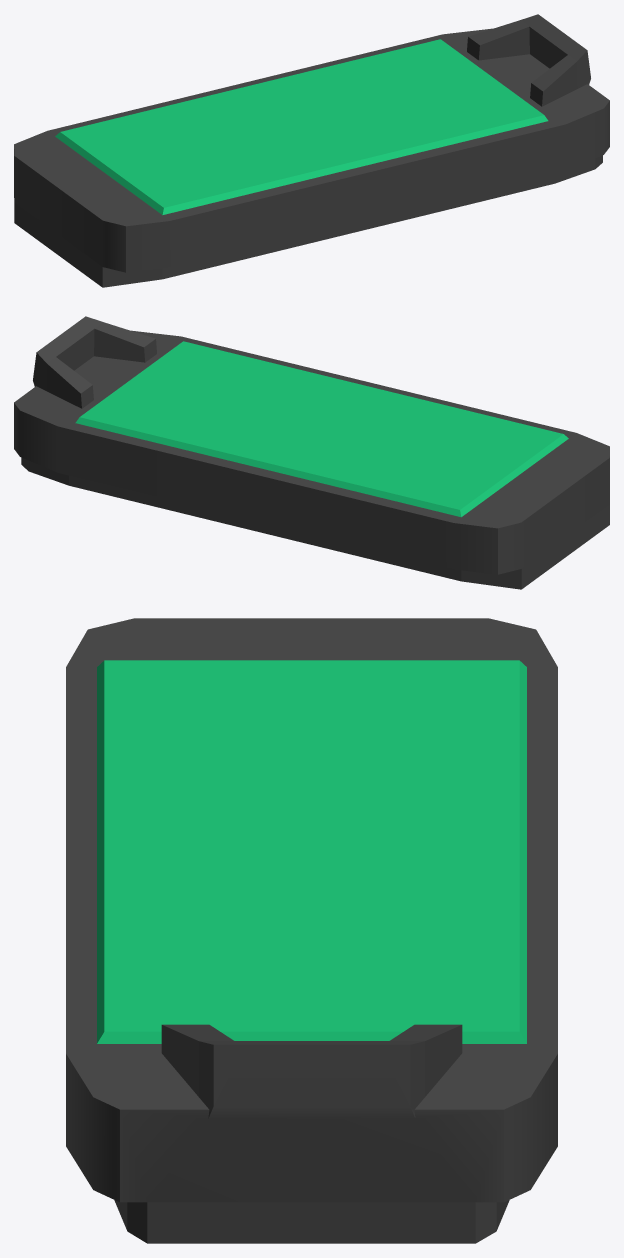
The model's file is Bed4GetOn_Off(Left).dae.
The picture shows the model from 3 angles, top to bottom: view 1: azimuth 30°, elevation 25°; view 2: azimuth 150°, elevation 25°; view 3: azimuth 270°, elevation 25°; orthographic projection. The views are drawn at different scales.
Parts seen in each view (by area): view 1: pCube1; view 2: pCube1; view 3: pCube1.
Boxes of the visible parts, left/top/right/bottom form: pCube1: left=14, top=14, right=609, bottom=287; pCube1: left=14, top=316, right=609, bottom=589; pCube1: left=66, top=618, right=557, bottom=1243.
Size of the model in its own units: 6.86 by 1.29 by 2.88.
